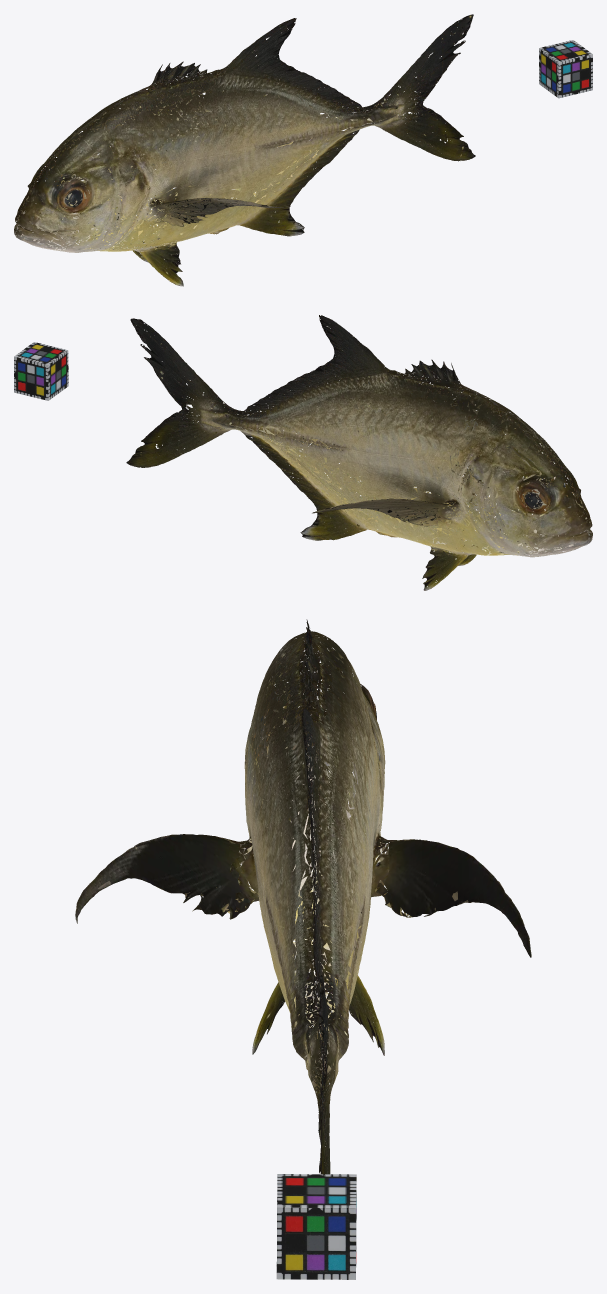
Rendered from scan_gianttrevally.glb.
The picture shows the model from 3 angles, top to bottom: view 1: azimuth 30°, elevation 25°; view 2: azimuth 150°, elevation 25°; view 3: azimuth 270°, elevation 25°; orthographic projection. The views are drawn at different scales.
Parts seen in each view (by area): view 1: Object_6, Object_10, Object_4; view 2: Object_10, Object_6, Object_4; view 3: Object_10, Object_6, Object_4.
Boxes of the visible parts, x1,y1,x2,y2 form: Object_6: [14, 14, 473, 286]; Object_10: [14, 14, 475, 281]; Object_4: [539, 40, 592, 98]; Object_10: [126, 315, 592, 590]; Object_6: [130, 315, 592, 589]; Object_4: [14, 342, 68, 400]; Object_10: [75, 619, 531, 1174]; Object_6: [75, 622, 531, 1173]; Object_4: [276, 1174, 356, 1279].
Size of the model in its own units: 9.68 by 3.75 by 3.38.
Materials: 3 (3 with a texture image).
